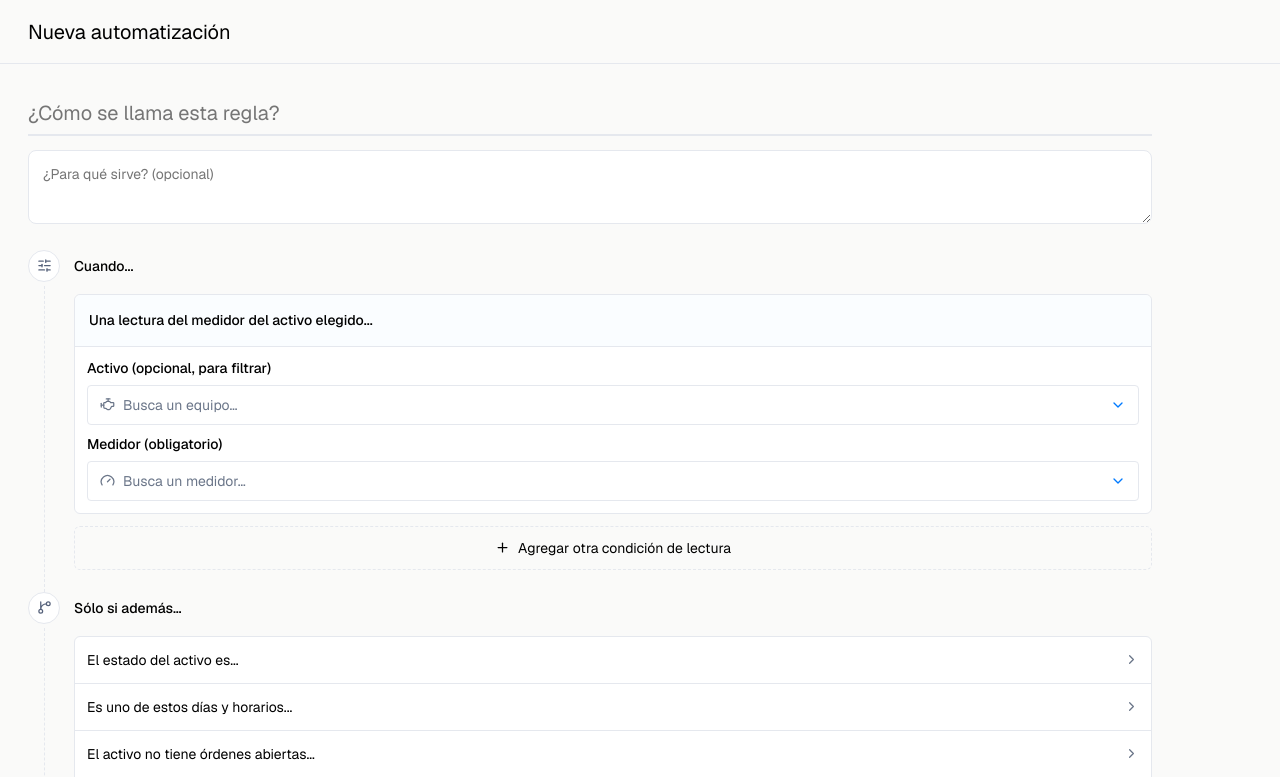
AutomatizacionCrearPanel — el disparador › suelta el activo al quitar el medidor
The width and height of the screenshot is (1280, 777).
Click the button "Busca un medidor…".
click(184, 481)  # box x1=87 y1=461 x2=1139 y2=501
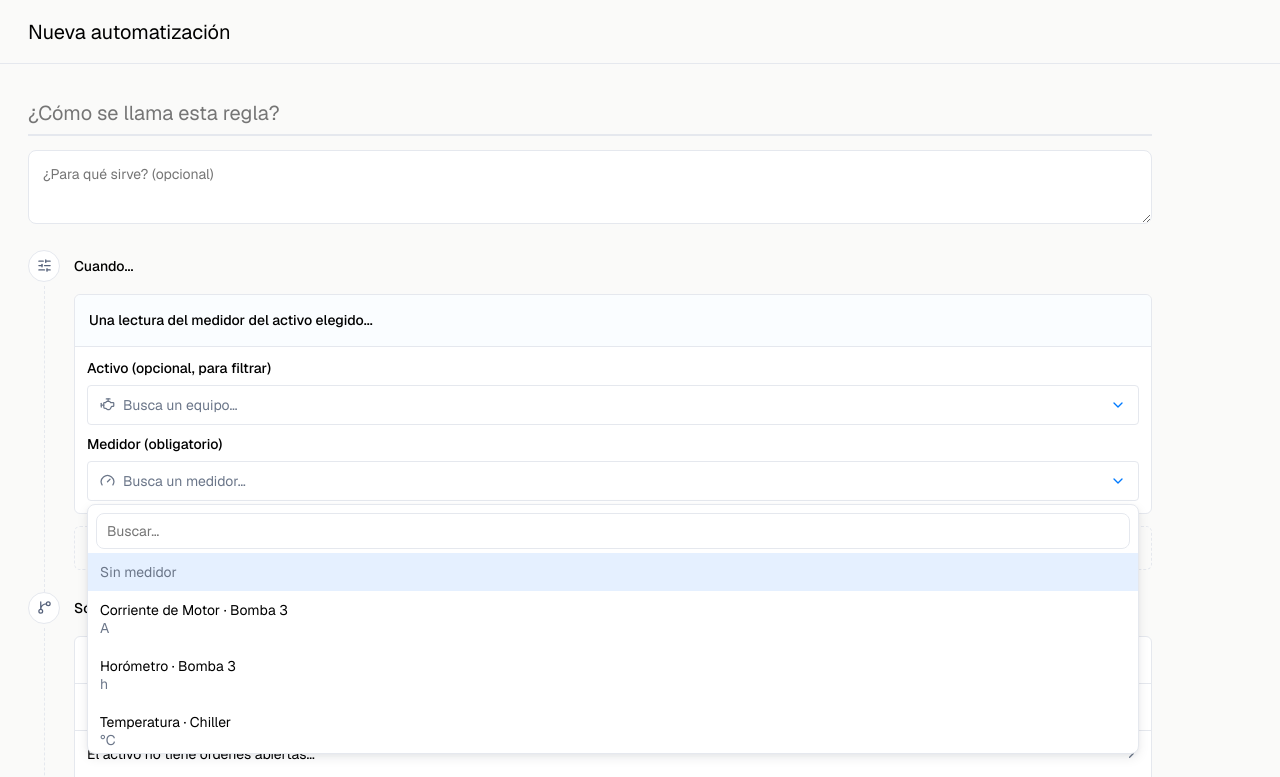
Click the text "Corriente de Motor · Bomba 3".
click(194, 610)  # box x1=100 y1=601 x2=288 y2=619
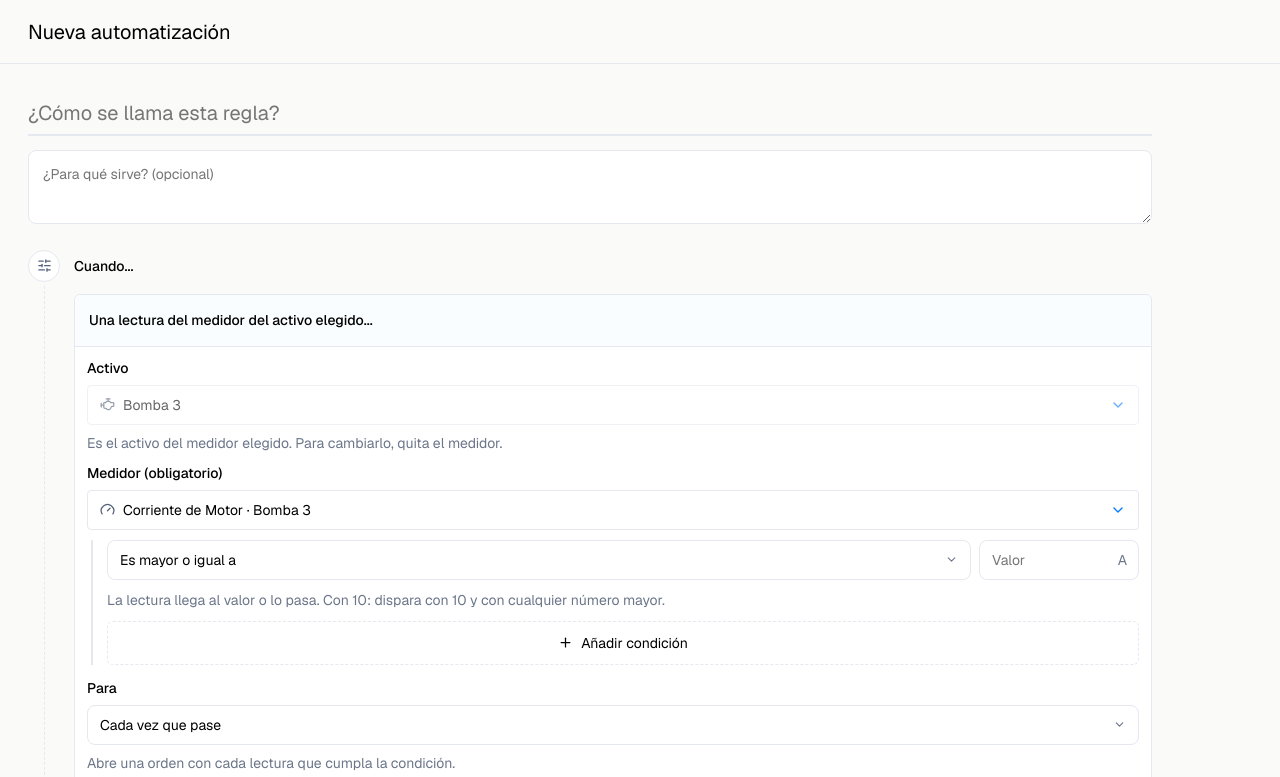
Now the text "Bomba 3" is shown, box x1=123 y1=396 x2=181 y2=414
Click the button "Corriente de Motor · Bomba 3".
click(217, 510)  # box x1=87 y1=490 x2=1139 y2=530
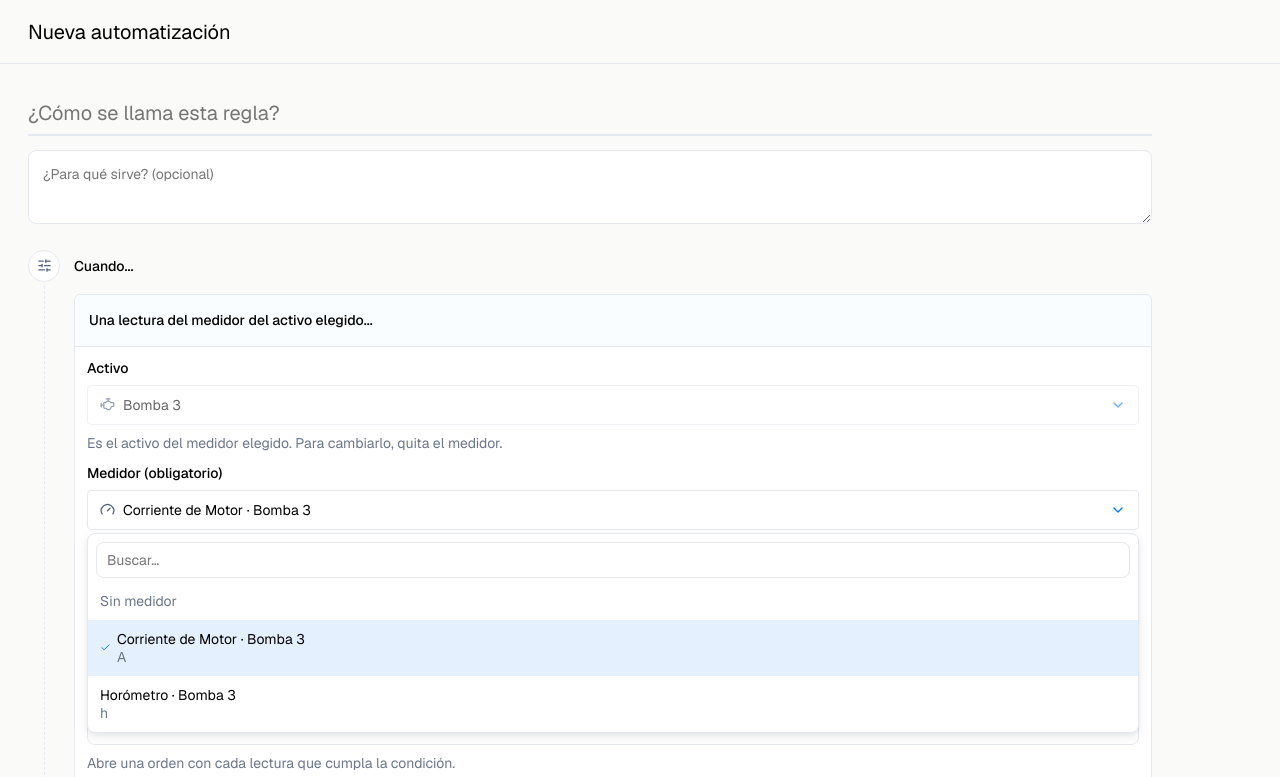
Click the button "Sin medidor".
click(138, 601)  # box x1=88 y1=582 x2=1138 y2=620
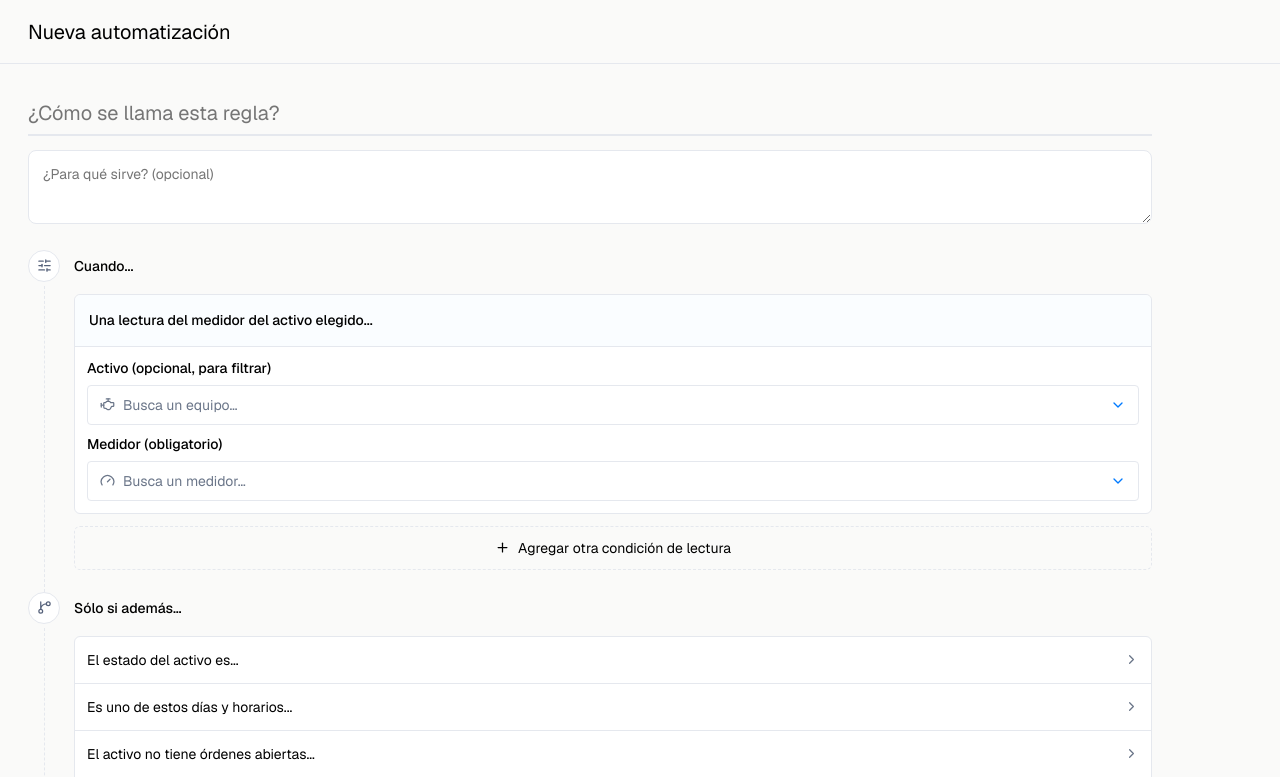
Now the button "Bomba 3" is gone
Now the text "Activo (opcional, para filtrar)" is shown, box x1=87 y1=359 x2=271 y2=377
